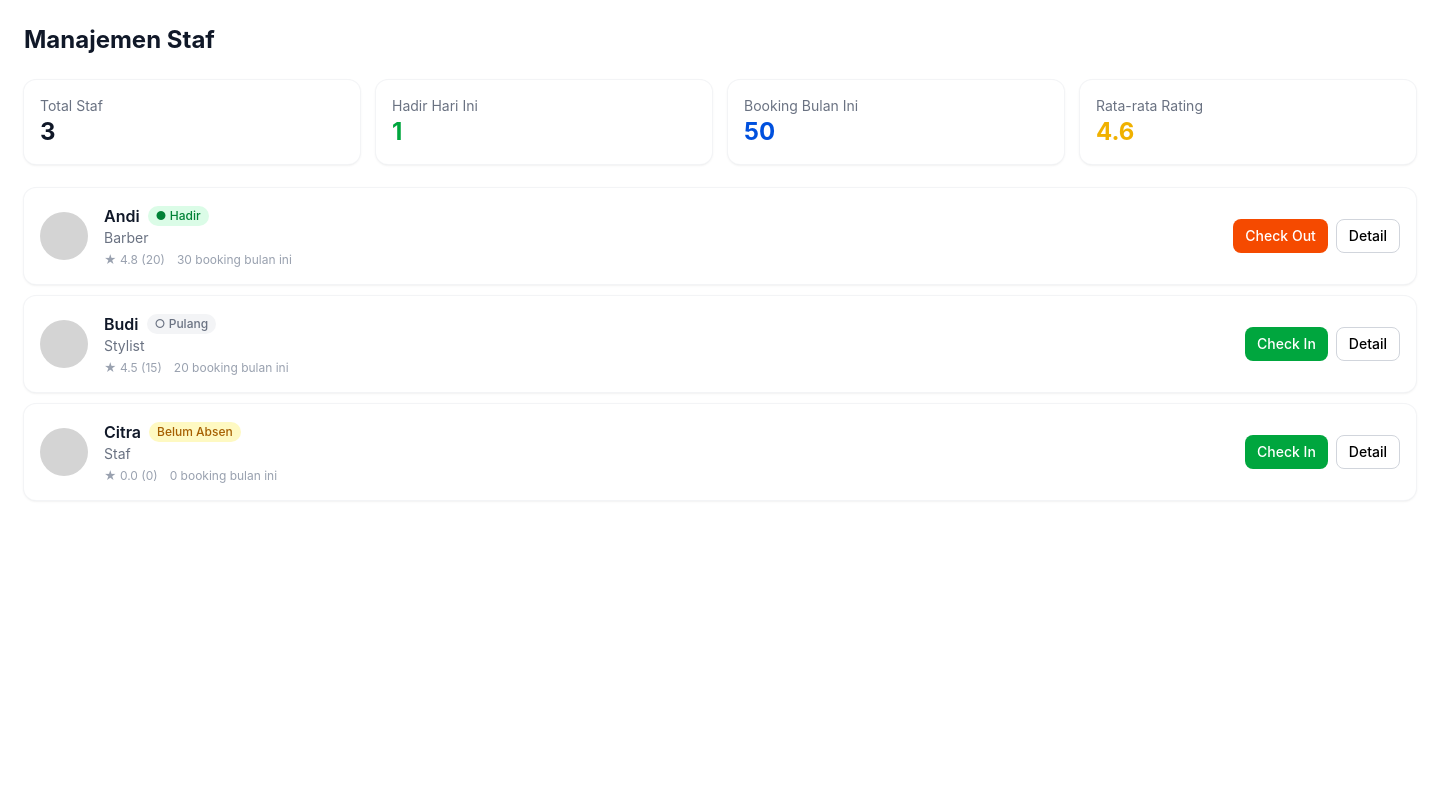
Test: StaffManagementSuitePage › shows dash for staff without last check-in
Expected: the heading "Citra" is shown, top-left (104, 420), bottom-right (141, 444)
Click the button "Detail" in the row of "Belum Absen": (1368, 452) top-left (1336, 435), bottom-right (1400, 469)
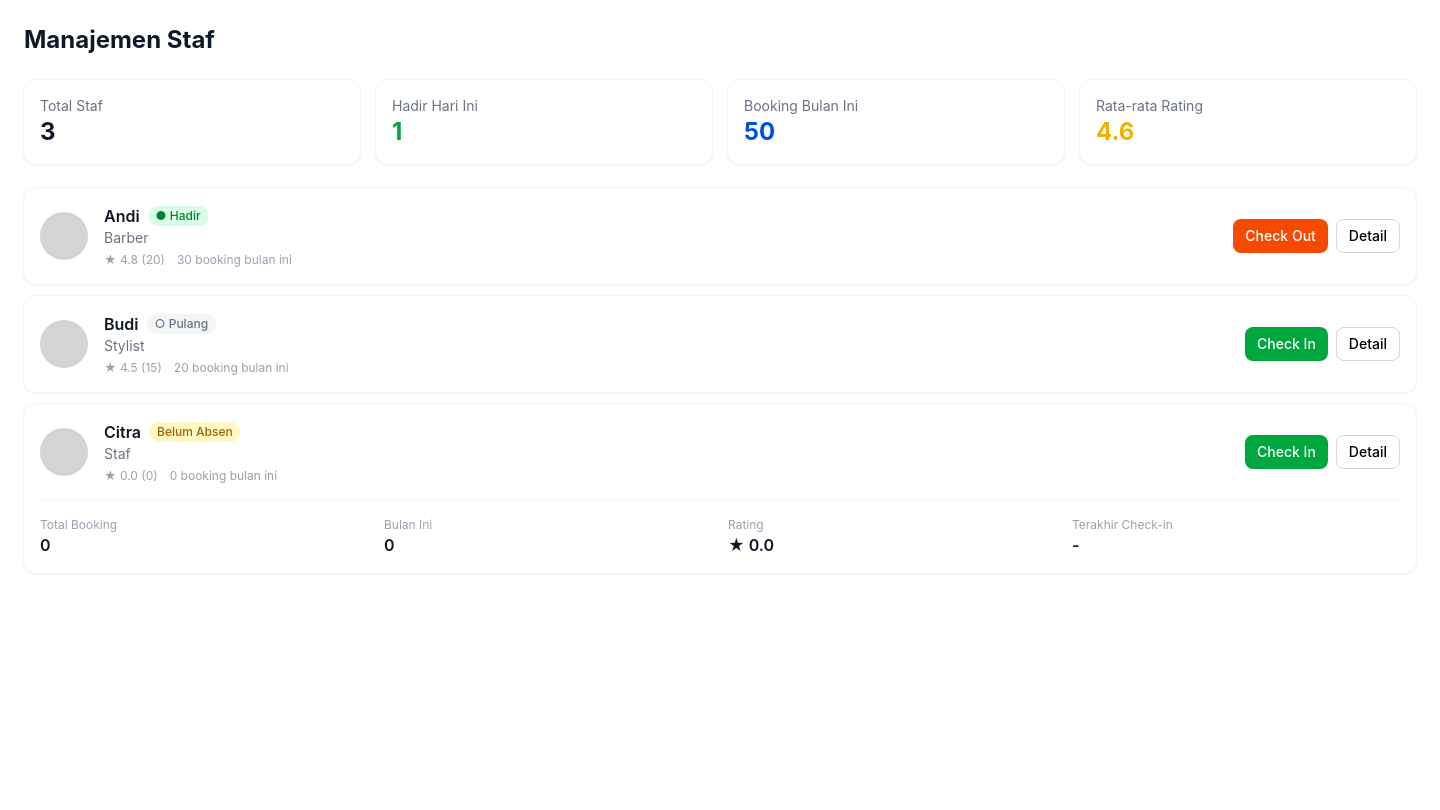
Expected: the text "Terakhir Check-in" is shown, top-left (1072, 517), bottom-right (1173, 532)
Expected: the text "-" is shown, top-left (1072, 535), bottom-right (1080, 555)
